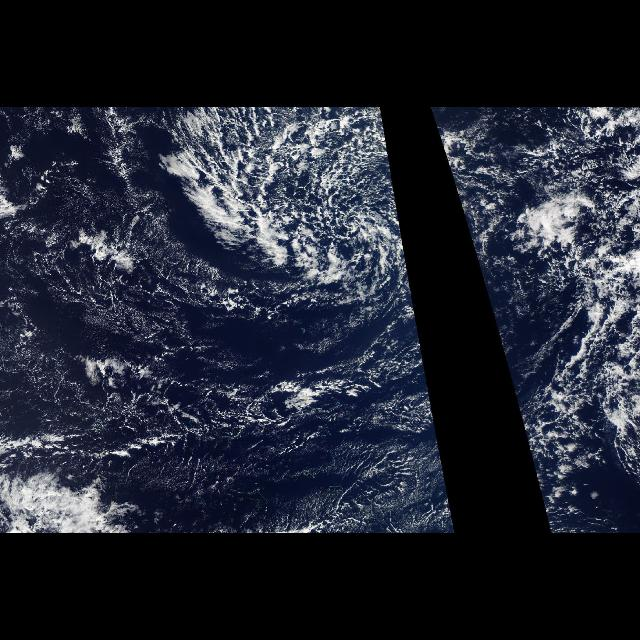Fish: (164, 109, 360, 293)
Gravel: (2, 111, 418, 477), (429, 110, 636, 330)
Sugar: (55, 244, 452, 522)
